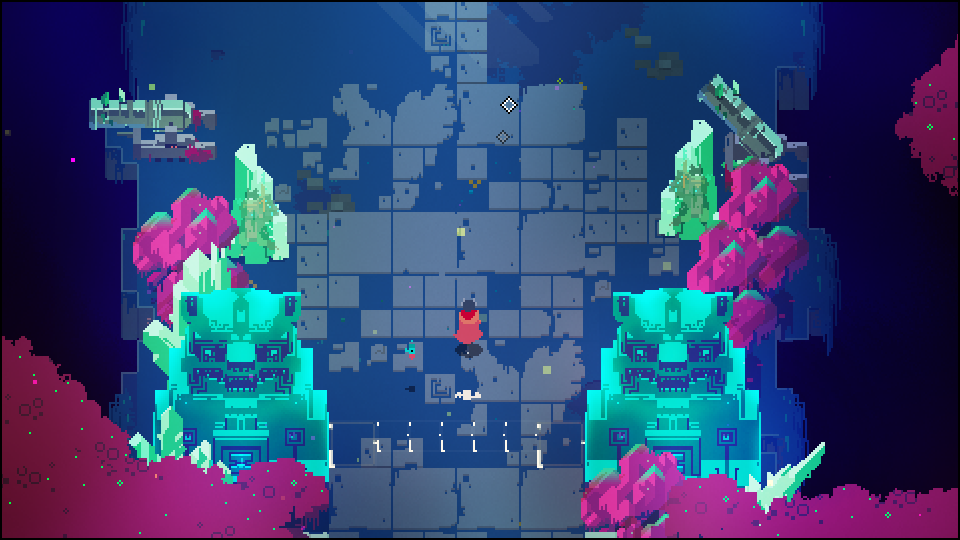player: (452, 298, 484, 357)
